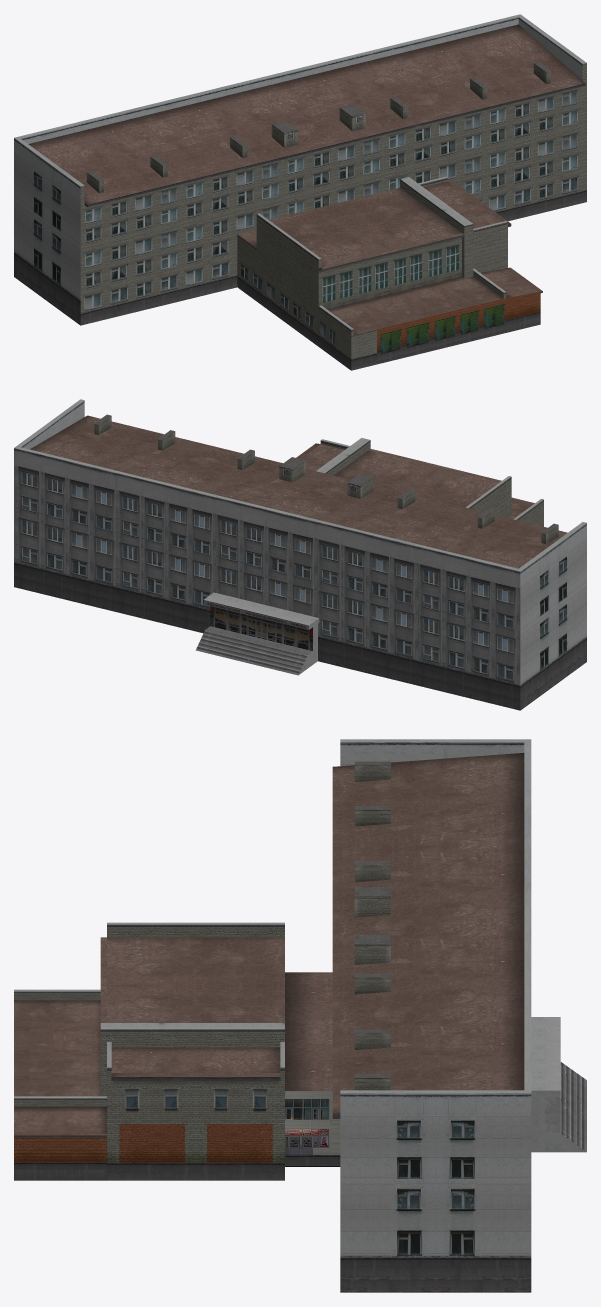
The model's file is house_33_municipal.FBX.
3 renders of one model, top to bottom at view 1: azimuth 30°, elevation 25°; view 2: azimuth 150°, elevation 25°; view 3: azimuth 270°, elevation 25°, orthographic. The views are drawn at different scales.
Parts seen in each view (by area): view 1: house_33_municipal; view 2: house_33_municipal; view 3: house_33_municipal.
Part boxes in pixels (box(x1,y1,x2,y2)): house_33_municipal: box(14, 14, 586, 370); house_33_municipal: box(14, 399, 586, 710); house_33_municipal: box(14, 739, 586, 1292).
Size of the model in its own units: 60.66 by 15.93 by 41.48.
